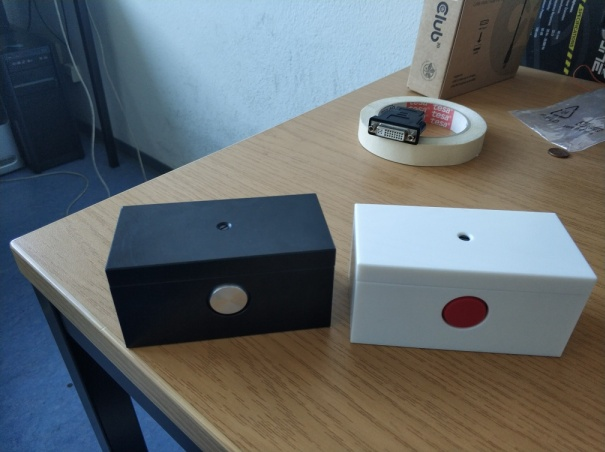black+black+silver: (103, 192, 337, 356)
white+white+red: (348, 203, 598, 358)
